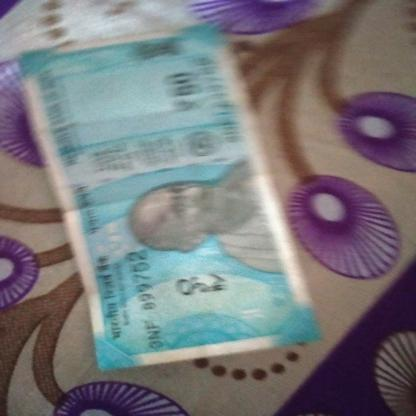New50Front: (22, 33, 312, 355)
